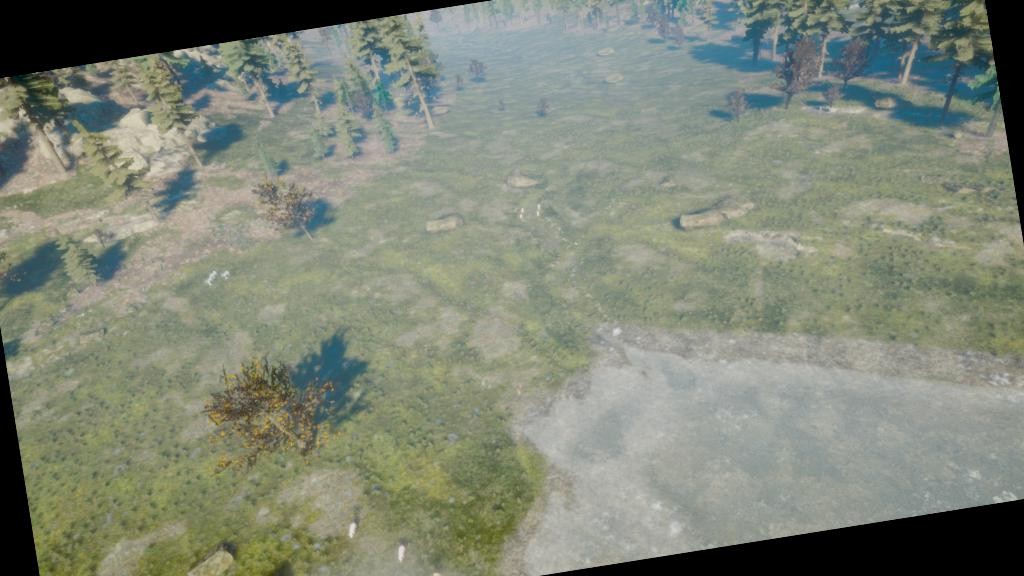human: (427, 570, 446, 575)
pig: (392, 540, 410, 566), (342, 520, 360, 540)
zebra: (200, 268, 220, 289), (216, 267, 234, 283)
